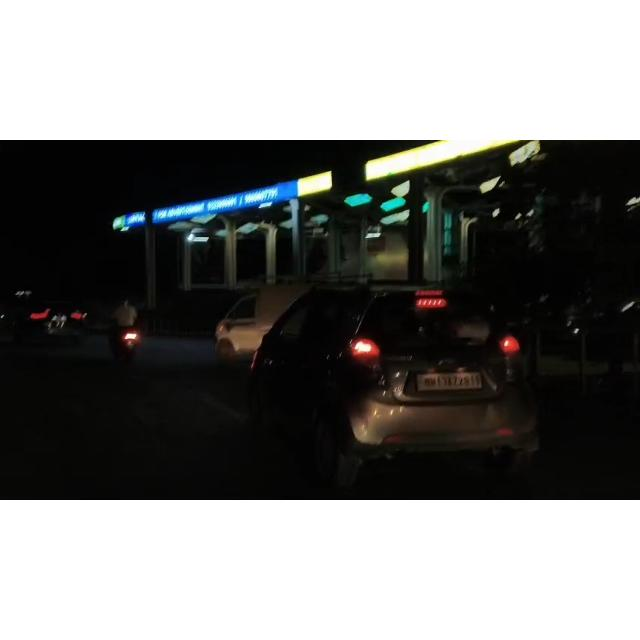car: (250, 267, 565, 485), (0, 274, 96, 358)
